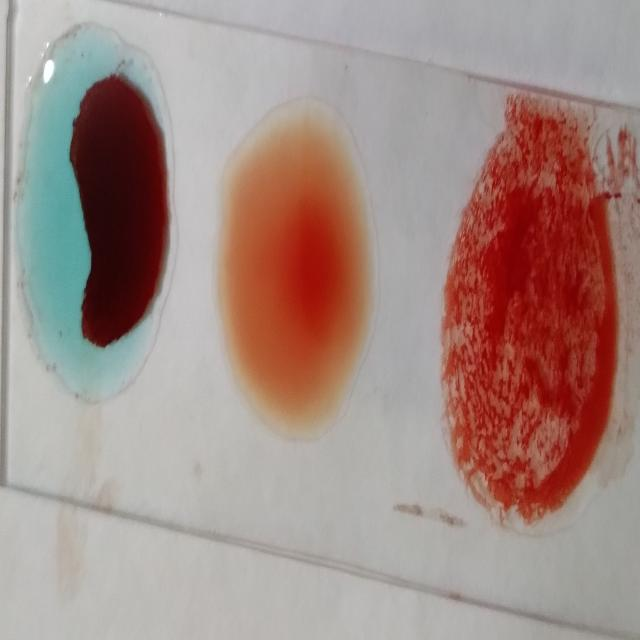A: (18, 21, 180, 424)
D: (438, 106, 624, 531)
